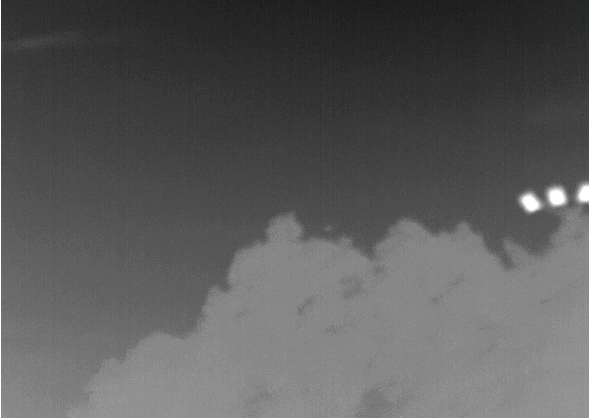dim target: (322, 223, 333, 232)
